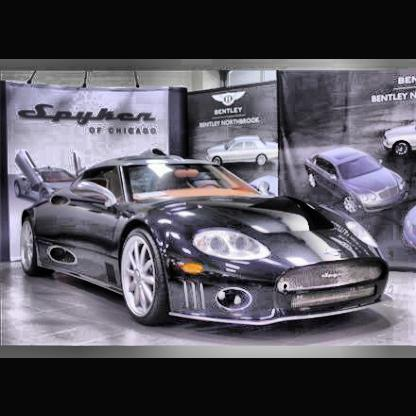Spyker C8 Convertible 2009: (21, 147, 397, 339)
